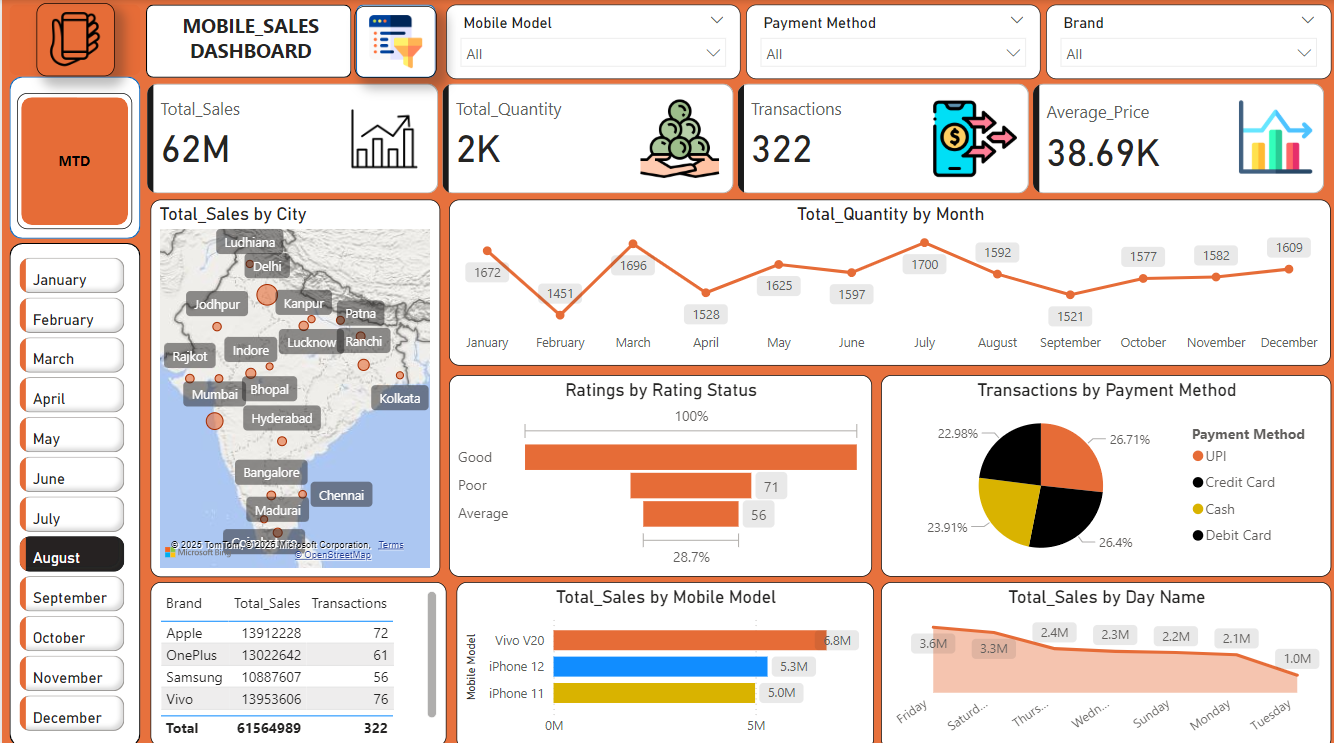

The page's visual inventory and layout, read from the dashboard file:
{"tool":"powerbi","page":{"name":"Dashboard","canvas":[1280,720],"ordinal":0},"visuals":[{"type":"shape","box":[7.5,3.8,125,67.5],"z":0},{"type":"image","box":[336.2,647.5,78.8,72.5],"z":1000},{"type":"shape","box":[7.5,73.8,125,155],"z":2000},{"type":"shape","box":[7.5,232.5,125,481.2],"z":3000},{"type":"advancedSlicerVisual","fields":{"Values":["Custom_Calendar.Date.Variation.Date Hierarchy.Month"]},"box":[11.2,241.2,110,472.5],"z":4000},{"type":"cardVisual","fields":{"Data":["Sales_Data.Total_Sales","Sales_Data.Total_Quantity","Sales_Data.Transactions","Sales_Data.Average_Price"]},"box":[132.9,74.3,1137.1,115.7],"z":5000},{"type":"slicer","fields":{"Values":["Sales_Data.Mobile Model"]},"box":[423.8,3.8,281.2,71.2],"z":6000},{"type":"slicer","fields":{"Values":["Sales_Data.Payment Method"]},"box":[710,3.8,281.2,71.2],"z":7000},{"type":"slicer","fields":{"Values":["Sales_Data.Brand"]},"box":[997.5,3.8,272.5,71.2],"z":8000},{"type":"shape","box":[338.8,3.8,76.2,70],"z":9000},{"type":"image","box":[893.4,652.6,81.8,66.6],"z":10000},{"type":"shape","box":[137.5,3.8,196.2,70],"z":11000},{"type":"textbox","box":[156.2,6.2,162.5,63.8],"z":12000},{"type":"map","fields":{"Category":["Sales_Data.City"],"Size":["Sales_Data.Total_Sales"]},"box":[141.8,190.5,276.5,361],"z":13000},{"type":"lineChart","fields":{"Y":["Sales_Data.Total_Quantity"],"Category":["Custom_Calendar.Date.Variation.Date Hierarchy.Month"]},"box":[426.9,190.5,842.2,159],"z":14000},{"type":"funnel","title":"Ratings by Rating Status","fields":{"Y":["CountNonNull(Sales_Data.Customer Ratings)"],"Category":["Sales_Data.Rating Status"]},"box":[427.5,358.8,403.8,192.5],"z":15000},{"type":"pieChart","fields":{"Y":["Sales_Data.Transactions"],"Category":["Sales_Data.Payment Method"]},"box":[840,358.8,430,192.5],"z":16000},{"type":"clusteredBarChart","fields":{"Y":["Sales_Data.Total_Sales"],"Category":["Sales_Data.Mobile Model"]},"box":[433.8,556.2,398.8,160],"z":17000},{"type":"areaChart","fields":{"Y":["Sales_Data.Total_Sales"],"Category":["Custom_Calendar.Day Name"]},"box":[840,556.2,430,160],"z":18000},{"type":"tableEx","fields":{"Values":["Sales_Data.Brand","Sales_Data.Total_Sales","Sales_Data.Transactions"]},"box":[141.2,556.2,282.5,157.5],"z":19000},{"type":"pageNavigator","box":[15,88.8,110,130],"z":20000},{"type":"image","box":[336.4,5.1,78.8,68.7],"z":21000},{"type":"image","box":[33.4,3,74.4,69.8],"z":22000}]}

Visuals, with their boxes in screenshot pixels (x1, y1, x2, y2), scaled from the page's 1280x720 canvas onto the 1334x743 screenshot:
shape: bbox=[8, 4, 138, 74]
image: bbox=[350, 668, 433, 742]
shape: bbox=[8, 76, 138, 236]
shape: bbox=[8, 240, 138, 736]
advancedSlicerVisual - Custom_Calendar.Date.Variation.Date Hierarchy.Month: bbox=[12, 249, 126, 736]
cardVisual - Sales_Data.Total_Sales x Sales_Data.Total_Quantity: bbox=[139, 77, 1324, 196]
slicer - Sales_Data.Mobile Model: bbox=[442, 4, 735, 77]
slicer - Sales_Data.Payment Method: bbox=[740, 4, 1033, 77]
slicer - Sales_Data.Brand: bbox=[1040, 4, 1324, 77]
shape: bbox=[353, 4, 433, 76]
image: bbox=[931, 673, 1016, 742]
shape: bbox=[143, 4, 348, 76]
textbox: bbox=[163, 6, 332, 72]
map - Sales_Data.City x Sales_Data.Total_Sales: bbox=[148, 197, 436, 569]
lineChart - Sales_Data.Total_Quantity x Custom_Calendar.Date.Variation.Date Hierarchy.Month: bbox=[445, 197, 1323, 361]
"Ratings by Rating Status" funnel: bbox=[446, 370, 866, 569]
pieChart - Sales_Data.Transactions x Sales_Data.Payment Method: bbox=[875, 370, 1324, 569]
clusteredBarChart - Sales_Data.Total_Sales x Sales_Data.Mobile Model: bbox=[452, 574, 868, 739]
areaChart - Sales_Data.Total_Sales x Custom_Calendar.Day Name: bbox=[875, 574, 1324, 739]
tableEx - Sales_Data.Brand x Sales_Data.Total_Sales: bbox=[147, 574, 442, 736]
pageNavigator: bbox=[16, 92, 130, 226]
image: bbox=[351, 5, 433, 76]
image: bbox=[35, 3, 112, 75]
